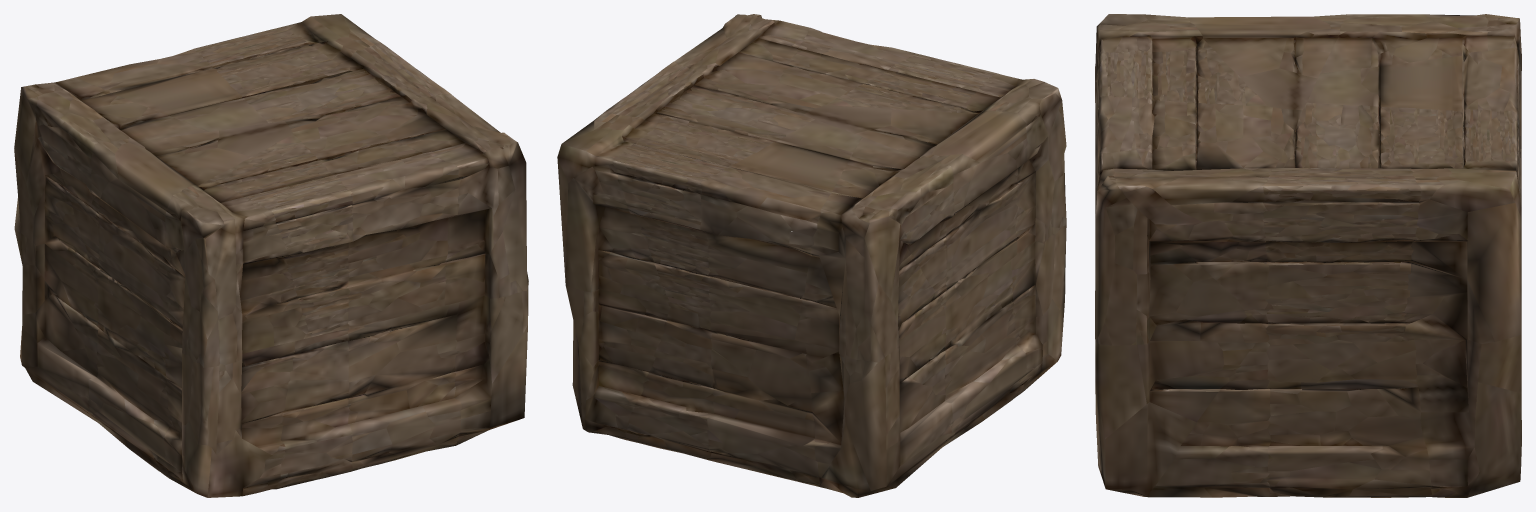
File: veh-j-crate.glb
3 renders of one model, left to right at view 1: azimuth 30°, elevation 25°; view 2: azimuth 150°, elevation 25°; view 3: azimuth 270°, elevation 25°, orthographic. The views are drawn at different scales.
Parts seen in each view (by area): view 1: tripo_node_6bf985cc-51e4-4fb1-9ed6-e87cfe49494f; view 2: tripo_node_6bf985cc-51e4-4fb1-9ed6-e87cfe49494f; view 3: tripo_node_6bf985cc-51e4-4fb1-9ed6-e87cfe49494f.
Part boxes in pixels (x1=…): tripo_node_6bf985cc-51e4-4fb1-9ed6-e87cfe49494f: x1=14, y1=14, x2=528, y2=497; tripo_node_6bf985cc-51e4-4fb1-9ed6-e87cfe49494f: x1=557, y1=14, x2=1066, y2=497; tripo_node_6bf985cc-51e4-4fb1-9ed6-e87cfe49494f: x1=1095, y1=14, x2=1521, y2=497.
Bounding box in the file's own units: 0.9208 × 0.7636 × 0.9416.
1 material, 1 textured.
